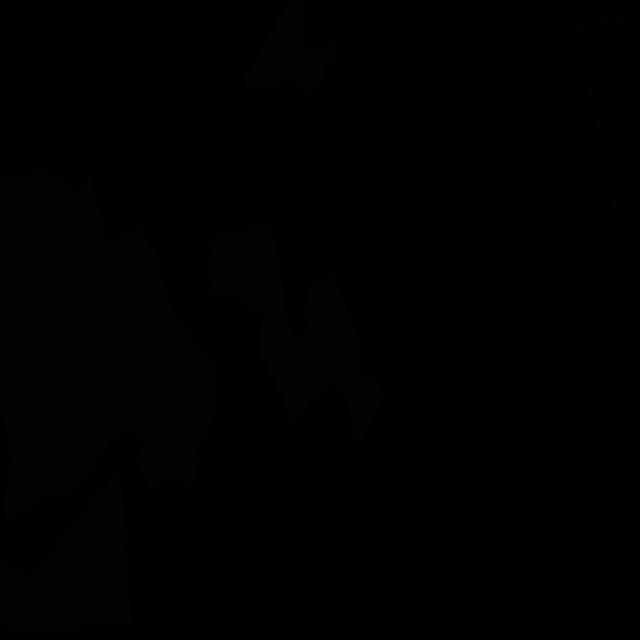cardboard: (0, 172, 217, 524), (207, 223, 383, 441), (0, 476, 132, 633), (244, 3, 337, 95)
rigid_plastic: (555, 17, 640, 218)
